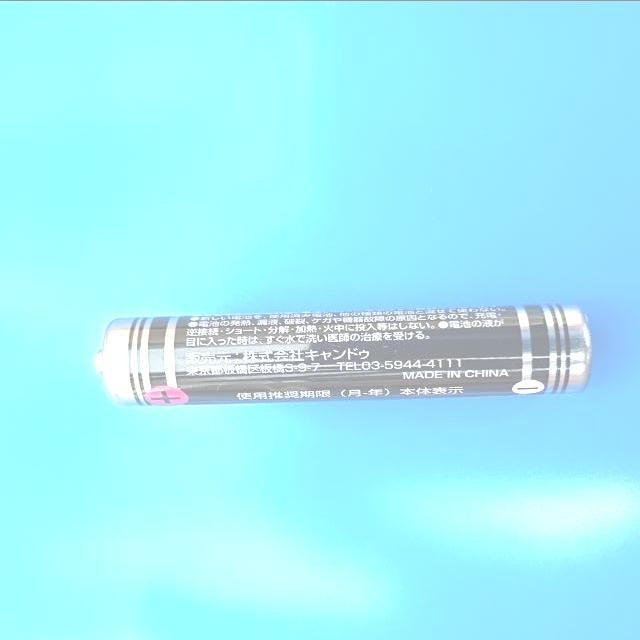AAA: (94, 301, 598, 410)
